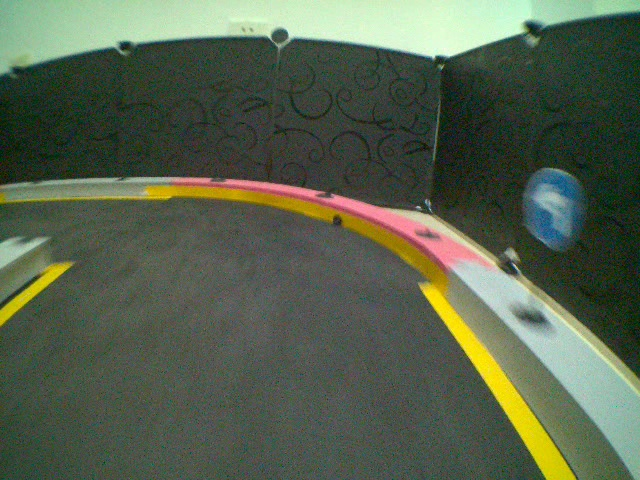turn: (520, 165, 591, 251)
